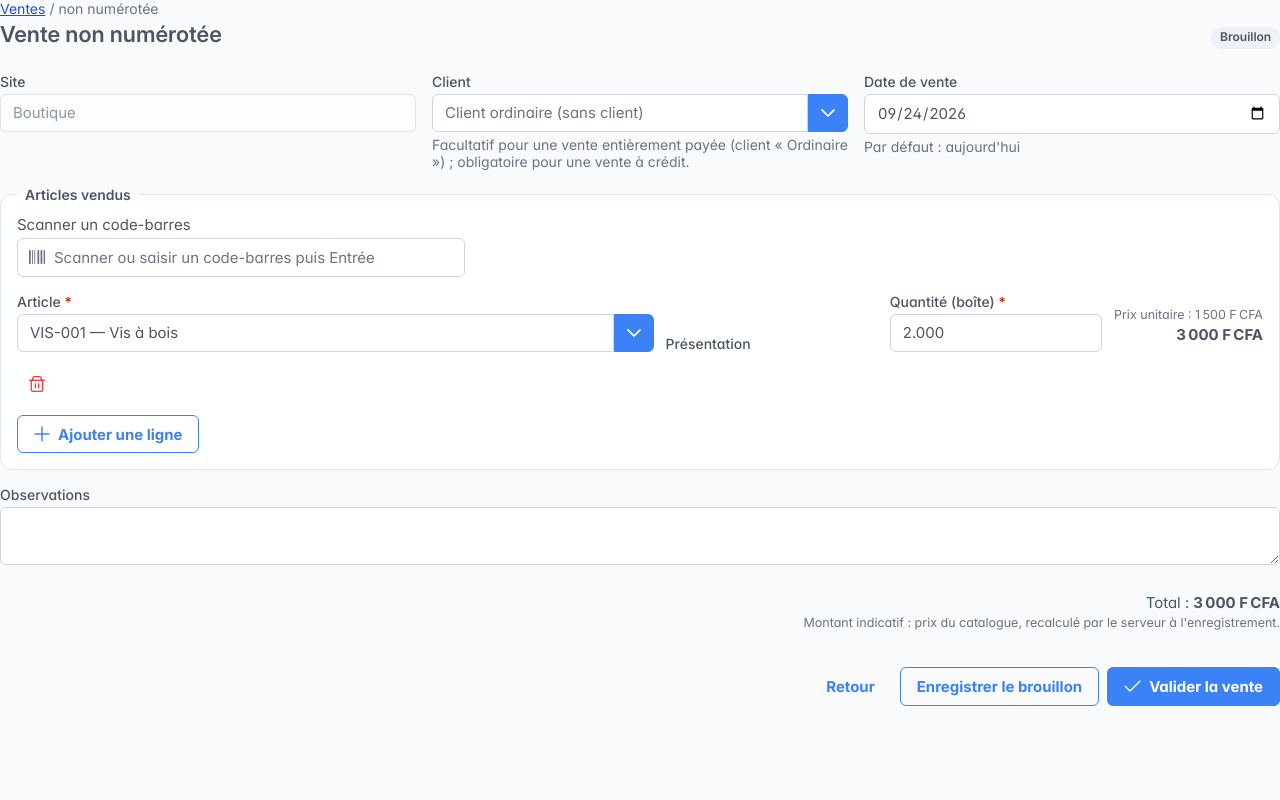
Test: saisie et consultation d’une vente › crédit refusé sans client : message du serveur affiché dans le dialogue
Click the button "Valider la vente" at x=1194, y=686, box [1107,667,1279,706]
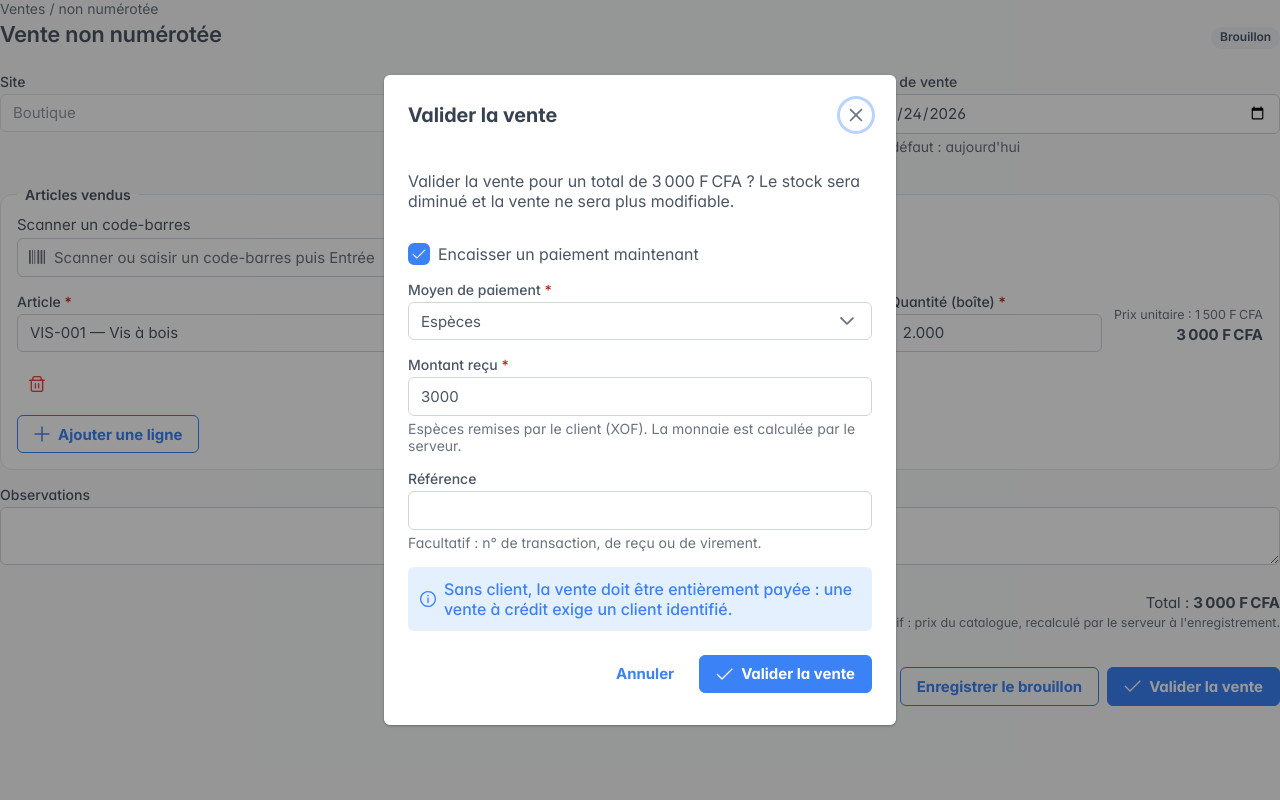
Click the checkbox labelled "Encaisser un paiement maintenant" at x=568, y=254, box [438,244,699,264]
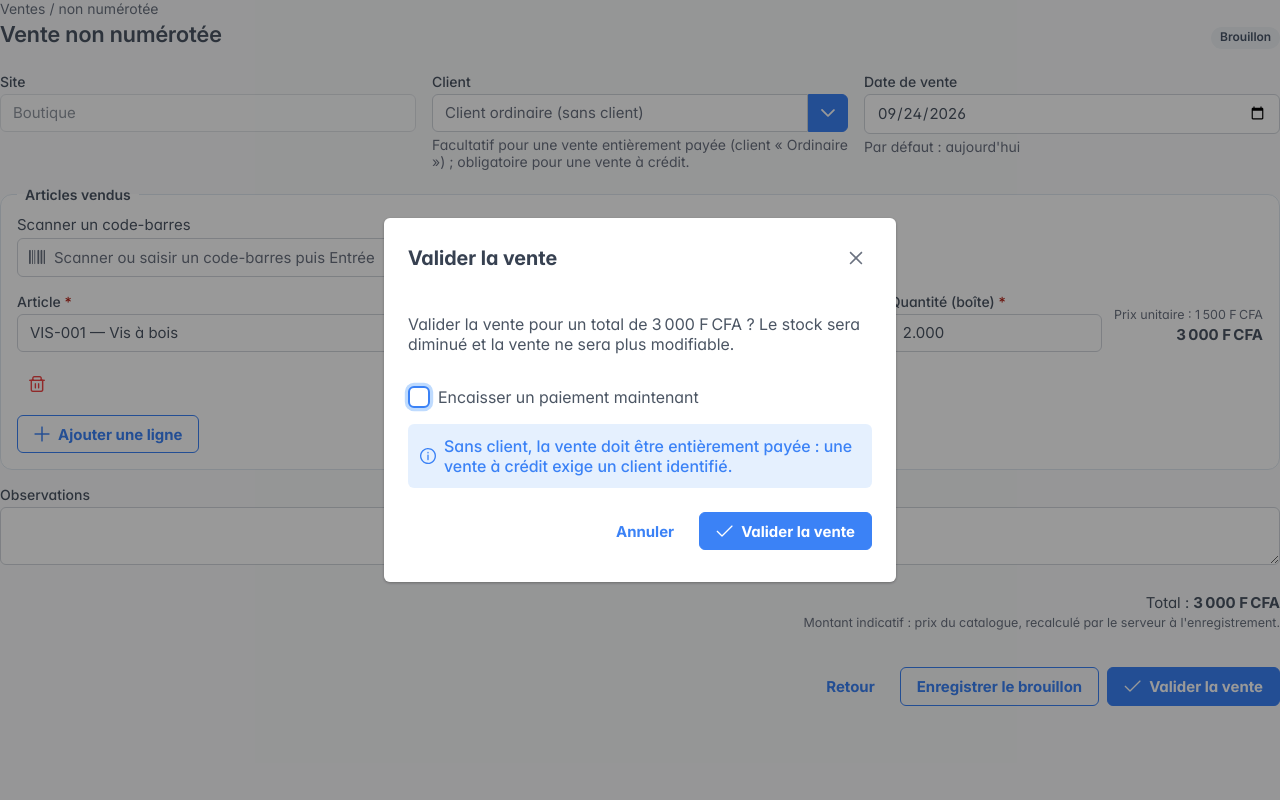
Click the button "Valider la vente" at x=786, y=531, box [699,512,872,550]
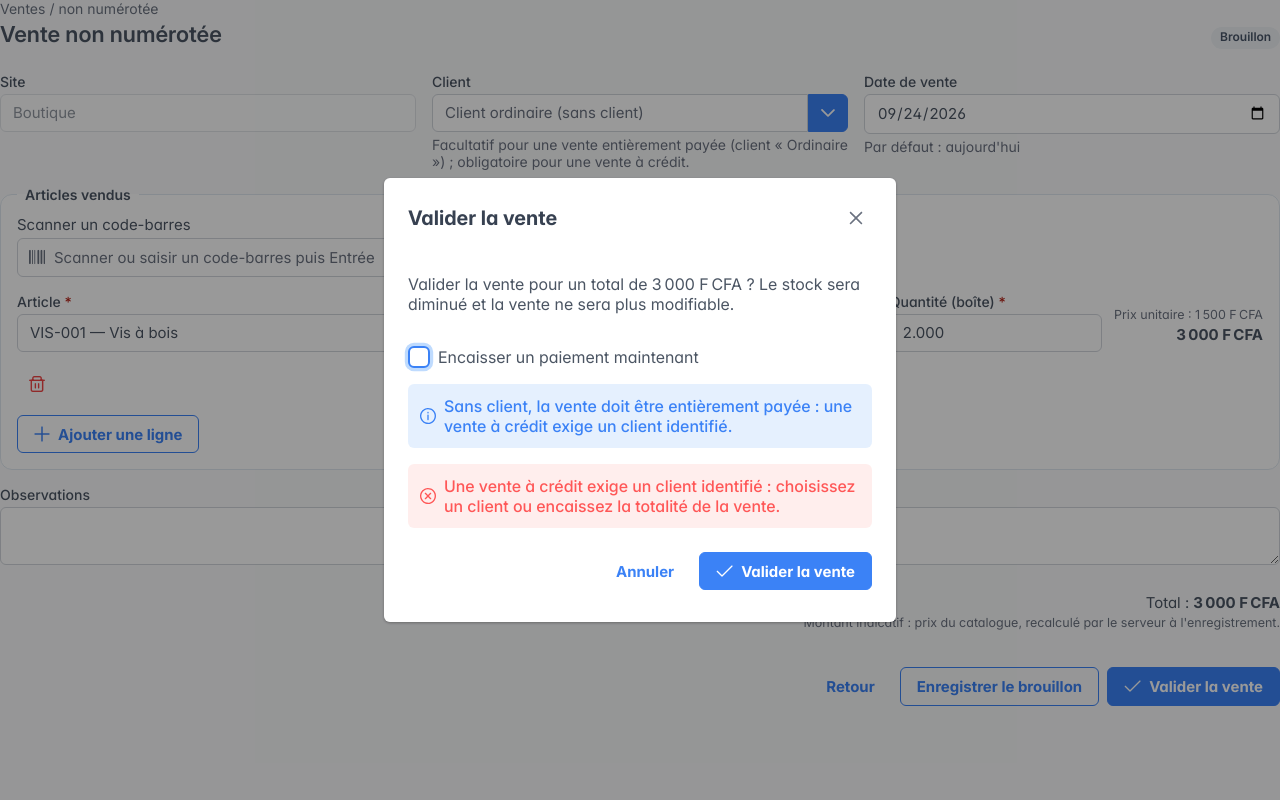
Now the text "Une vente à crédit exige un client identifié" is shown, box [444,476,855,516]
